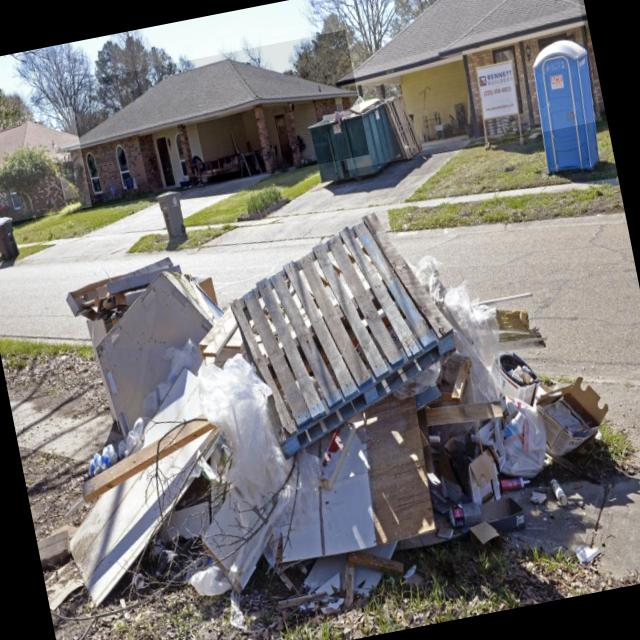House: (58, 29, 370, 210), (312, 0, 602, 170), (0, 106, 92, 229)
